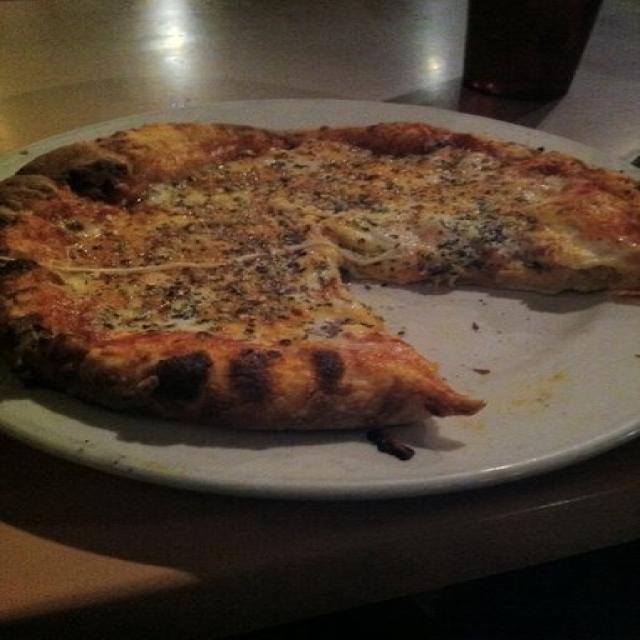Pizza: (0, 122, 640, 459)
